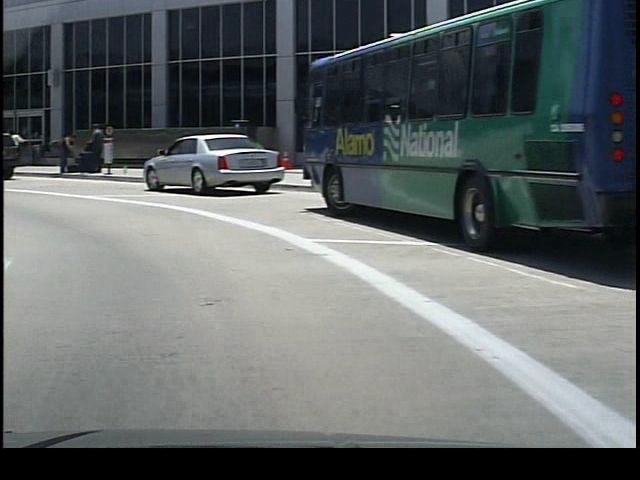person: (45, 125, 75, 179), (82, 122, 103, 176)
